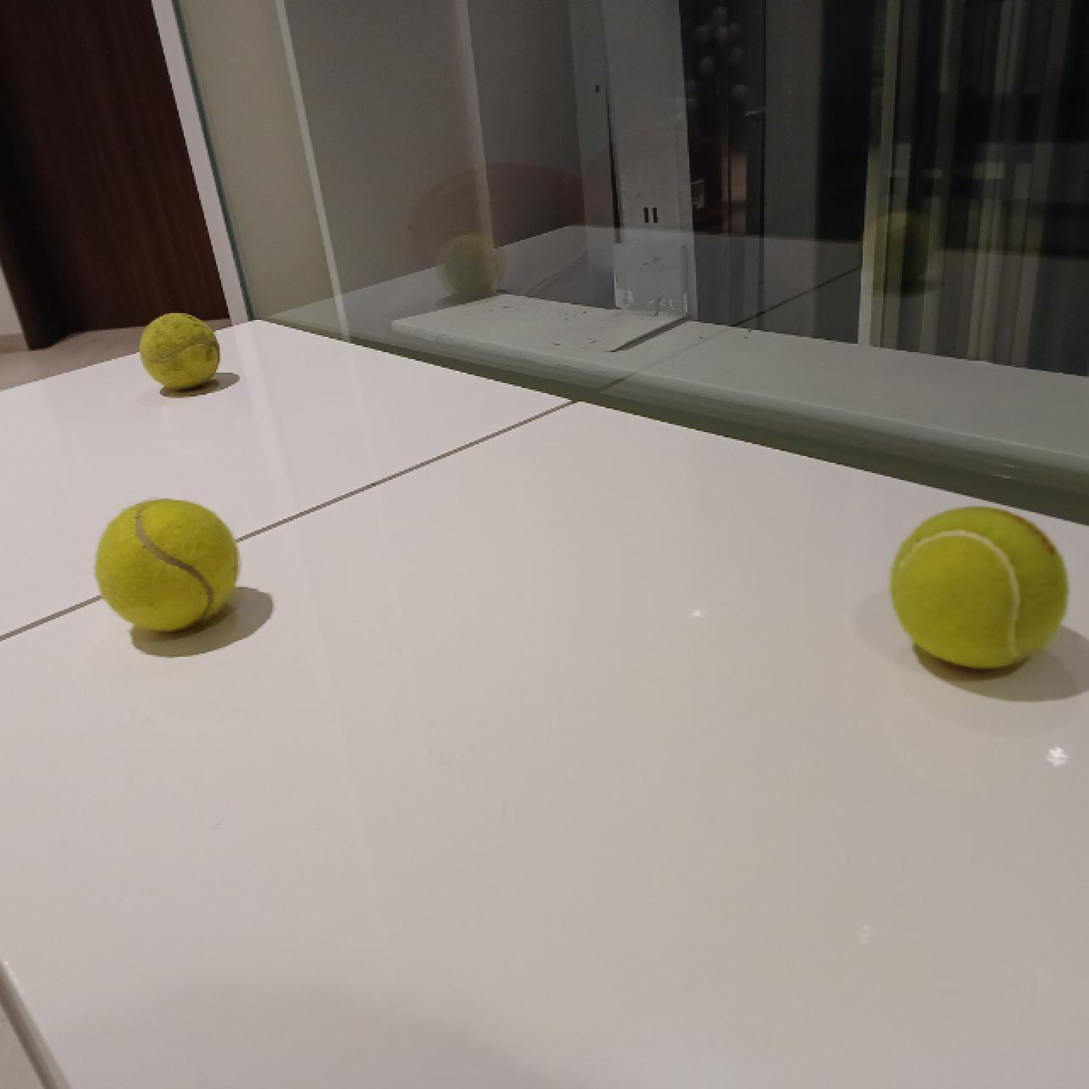tennis-ball: (892, 504, 1070, 671), (94, 495, 240, 633), (136, 311, 223, 393)
